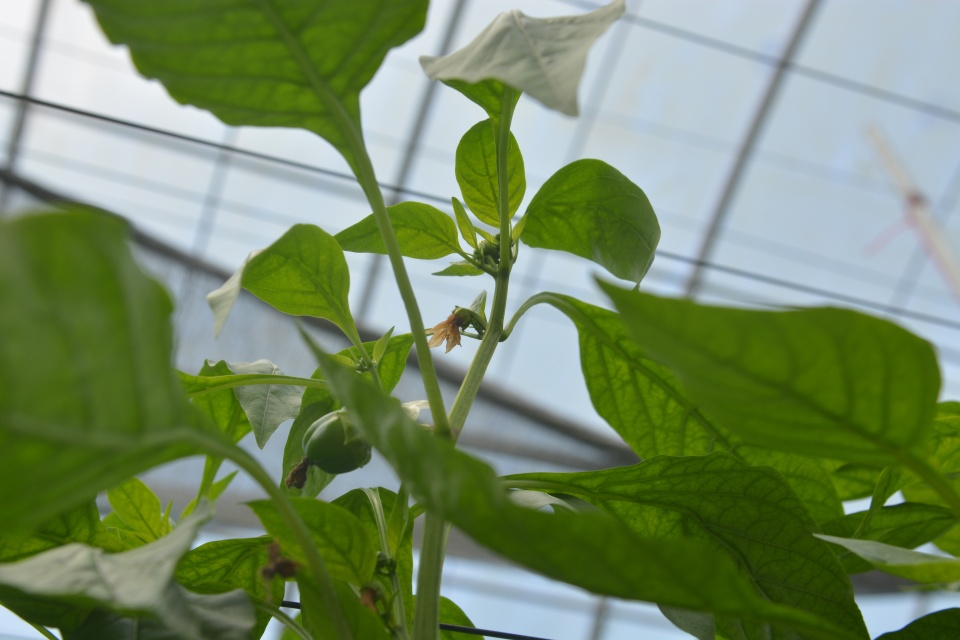immature: (284, 404, 374, 495)
